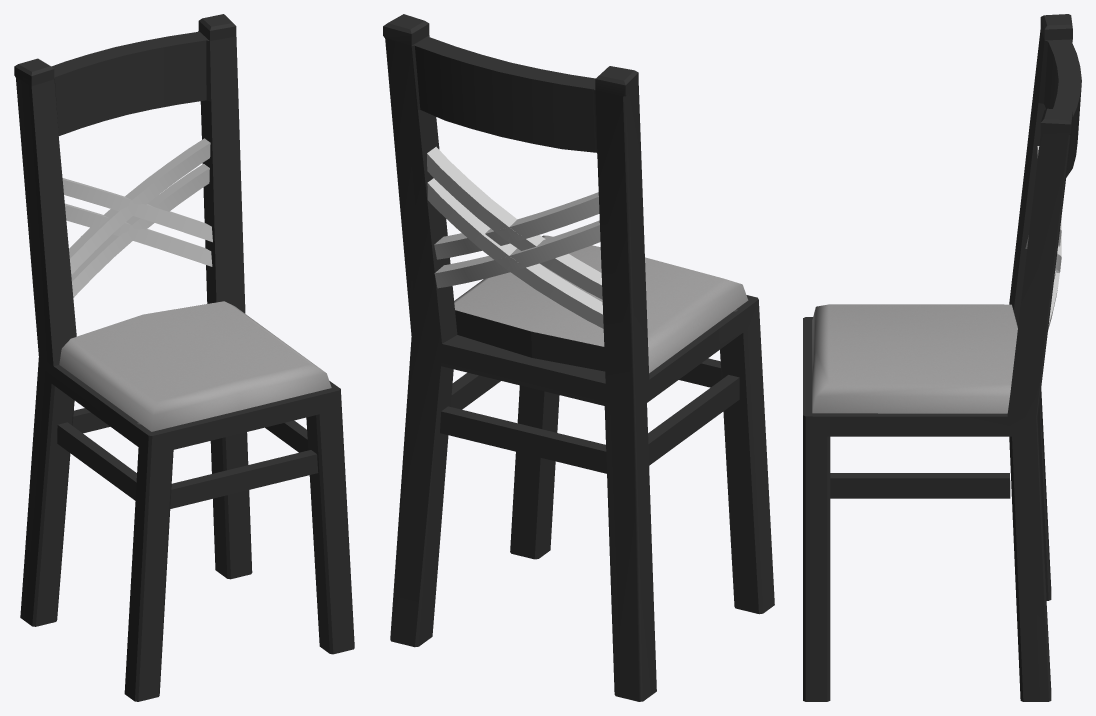
Rendered from chair.fbx.
3 renders of one model, left to right at view 1: azimuth 30°, elevation 25°; view 2: azimuth 150°, elevation 25°; view 3: azimuth 270°, elevation 25°, orthographic. The views are drawn at different scales.
Visible parts, largest first — view 1: pCube5; view 2: pCube5; view 3: pCube5.
Part boxes in pixels (x1,y1,x2,y2): pCube5: (14, 14, 354, 701); pCube5: (383, 14, 774, 701); pCube5: (803, 14, 1081, 701).
Size of the model in its own units: 1.72 by 4.06 by 1.78.
